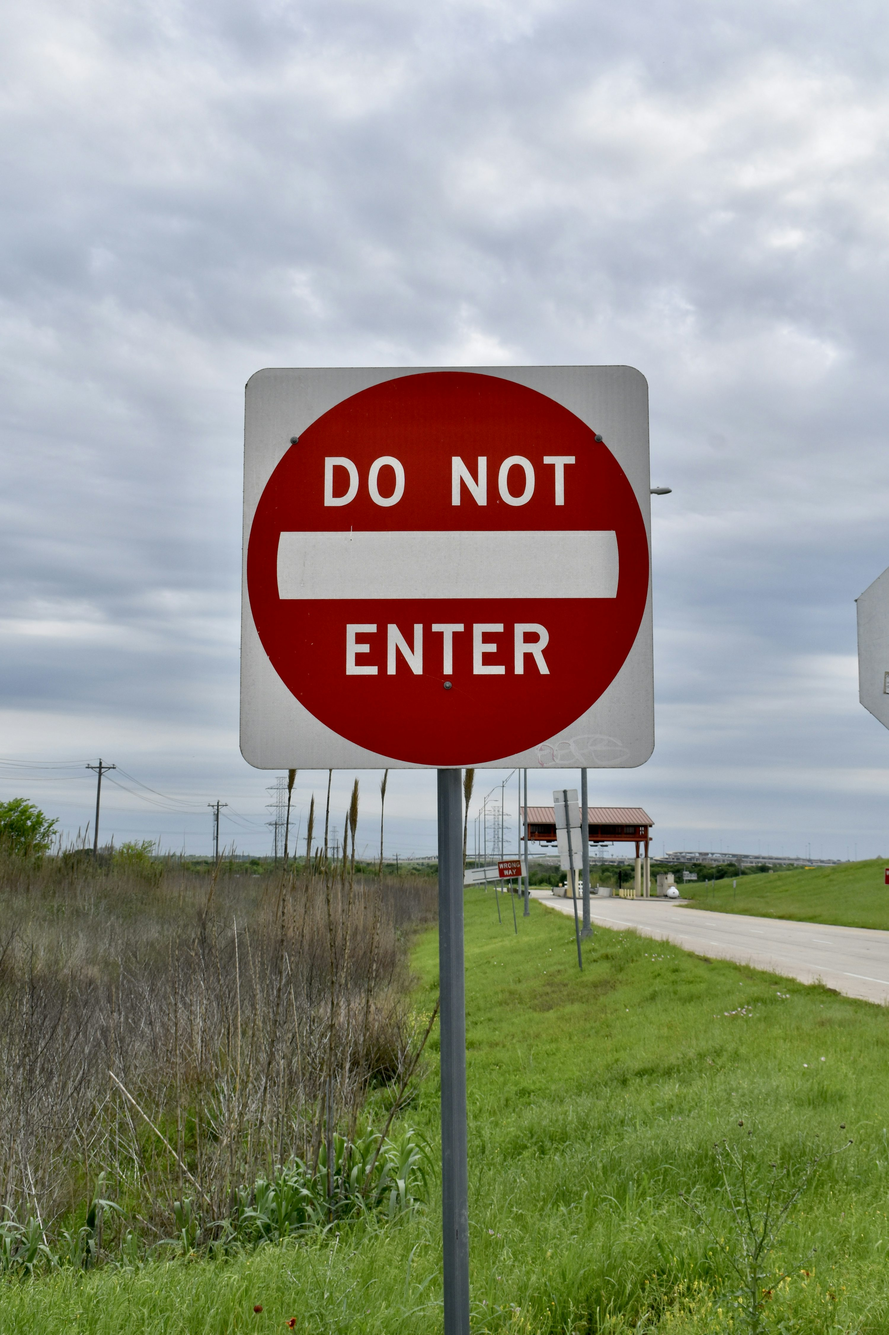Do Not Enter: (242, 384, 644, 767)
